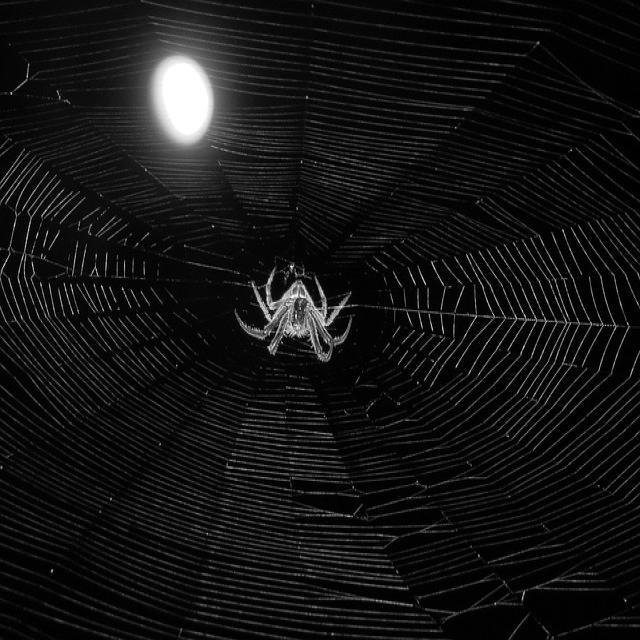spyder: (234, 261, 351, 362)
